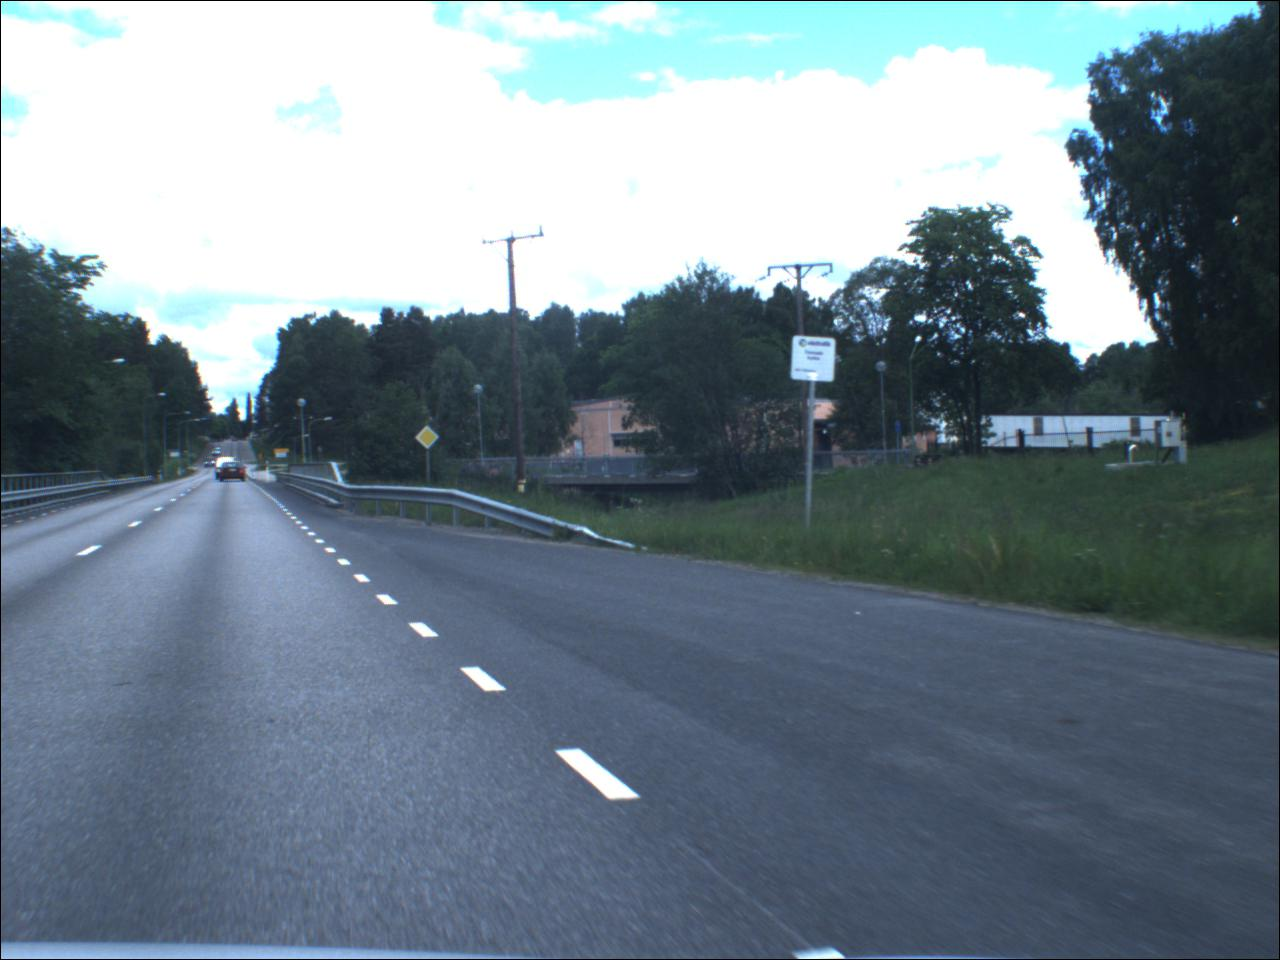PRIORITY_ROAD: (416, 424, 444, 454)
